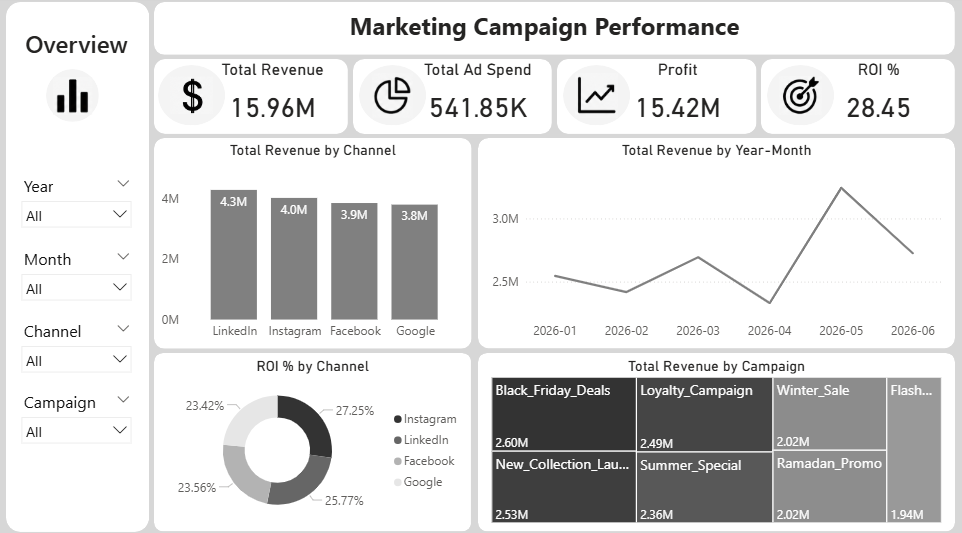

The page's visual inventory and layout, read from the dashboard file:
{"tool":"powerbi","page":{"name":"Overview","canvas":[1280,720],"ordinal":0},"visuals":[{"type":"shape","box":[204.9,7.3,1063.9,70.2],"z":0},{"type":"textbox","box":[436.1,11.7,575.1,60],"z":1000},{"type":"shape","box":[7.3,7.3,190.2,703.9],"z":2000},{"type":"shape","box":[204.9,83.4,257.6,99.5],"z":3000},{"type":"shape","box":[468.9,83.7,264.4,99.6],"z":4000},{"type":"shape","box":[739.7,83.4,265,99.5],"z":5000},{"type":"shape","box":[1011.2,83.4,257.6,99.5],"z":6000},{"type":"textbox","box":[18.6,35.9,166.1,55.8],"z":7000},{"type":"slicer","fields":{"Values":["Calendar.Year"]},"box":[18.6,232.5,166.1,95.6],"z":8000},{"type":"slicer","fields":{"Values":["Calendar.Month"]},"box":[18.6,329.4,166.1,95.6],"z":9000},{"type":"slicer","fields":{"Values":["FactMarketing.Channel"]},"box":[18.6,425.1,166.1,94.3],"z":10000},{"type":"slicer","fields":{"Values":["FactMarketing.Campaign"]},"box":[18.6,519.4,166.1,94.3],"z":11000},{"type":"card","title":"Total Revenue","fields":{"Values":["All Measures.Total Revenue"]},"box":[272.2,84.9,180,95.1],"z":12000},{"type":"card","title":"Total Ad Spend","fields":{"Values":["All Measures.Total Ad Spend"]},"box":[544.4,84.9,180,95.1],"z":13000},{"type":"card","title":"Profit","fields":{"Values":["All Measures.Profit"]},"box":[810.7,84.9,180,95.1],"z":14000},{"type":"card","title":"ROI %","fields":{"Values":["All Measures.ROI %"]},"box":[1077.1,84.9,180,95.1],"z":15000},{"type":"shape","box":[204.9,188.8,422,280],"z":16000},{"type":"clusteredColumnChart","fields":{"Y":["All Measures.Total Revenue"],"Category":["FactMarketing.Channel"]},"box":[209.3,193.2,411.2,272.2],"z":17000},{"type":"shape","box":[635.1,188.8,633.7,279.5],"z":18000},{"type":"lineChart","fields":{"Y":["All Measures.Total Revenue"],"Category":["Calendar.Year-Month"]},"box":[648.3,193.2,607.3,272.2],"z":19000},{"type":"shape","box":[204.9,474.1,421.5,237.1],"z":20000},{"type":"shape","box":[635.1,474.1,633.7,237.1],"z":21000},{"type":"donutChart","fields":{"Y":["All Measures.ROI %"],"Category":["FactMarketing.Channel"]},"box":[209.3,480,411.2,225.4],"z":22000},{"type":"treemap","fields":{"Values":["All Measures.Total Revenue"],"Group":["FactMarketing.Campaign"]},"box":[648.3,480,607.3,225.4],"z":23000},{"type":"shape","box":[209.3,92.2,89.3,80.5],"z":24000},{"type":"image","box":[225.4,102.4,57.1,60],"z":25000},{"type":"shape","box":[477.1,92.2,89.3,80.5],"z":26000},{"type":"shape","box":[747.8,92.2,89.3,80.5],"z":27000},{"type":"shape","box":[1018.5,92.2,89.3,80.5],"z":28000},{"type":"image","box":[493.2,102.4,57.1,60],"z":29000},{"type":"image","box":[763.9,102.4,57.1,60],"z":30000},{"type":"image","box":[1034.6,102.4,57.1,60],"z":31000},{"type":"shape","box":[61.1,97,70.4,70.4],"z":32000},{"type":"image","box":[70.4,107.6,51.8,50.5],"z":33000}]}

Visuals, with their boxes in screenshot pixels (x1, y1, x2, y2), scaled from the page's 1280x720 canvas onto the 962x533 screenshot:
shape: bbox(154, 5, 954, 57)
textbox: bbox(328, 9, 760, 53)
shape: bbox(5, 5, 148, 526)
shape: bbox(154, 62, 348, 135)
shape: bbox(352, 62, 551, 136)
shape: bbox(556, 62, 755, 135)
shape: bbox(760, 62, 954, 135)
textbox: bbox(14, 27, 139, 68)
slicer - Calendar.Year: bbox(14, 172, 139, 243)
slicer - Calendar.Month: bbox(14, 244, 139, 315)
slicer - FactMarketing.Channel: bbox(14, 315, 139, 385)
slicer - FactMarketing.Campaign: bbox(14, 385, 139, 454)
"Total Revenue" card: bbox(205, 63, 340, 133)
"Total Ad Spend" card: bbox(409, 63, 544, 133)
"Profit" card: bbox(609, 63, 745, 133)
"ROI %" card: bbox(810, 63, 945, 133)
shape: bbox(154, 140, 471, 347)
clusteredColumnChart - All Measures.Total Revenue x FactMarketing.Channel: bbox(157, 143, 466, 345)
shape: bbox(477, 140, 954, 347)
lineChart - All Measures.Total Revenue x Calendar.Year-Month: bbox(487, 143, 944, 345)
shape: bbox(154, 351, 471, 526)
shape: bbox(477, 351, 954, 526)
donutChart - All Measures.ROI % x FactMarketing.Channel: bbox(157, 355, 466, 522)
treemap - All Measures.Total Revenue x FactMarketing.Campaign: bbox(487, 355, 944, 522)
shape: bbox(157, 68, 224, 128)
image: bbox(169, 76, 212, 120)
shape: bbox(359, 68, 426, 128)
shape: bbox(562, 68, 629, 128)
shape: bbox(765, 68, 833, 128)
image: bbox(371, 76, 414, 120)
image: bbox(574, 76, 617, 120)
image: bbox(778, 76, 820, 120)
shape: bbox(46, 72, 99, 124)
image: bbox(53, 80, 92, 117)
